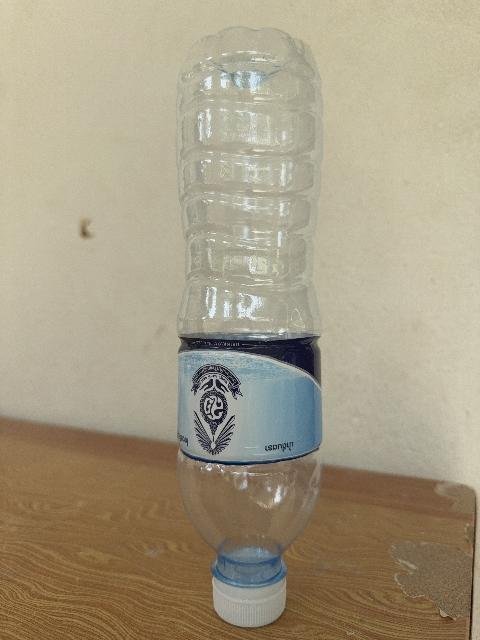bottle: (177, 28, 322, 626)
